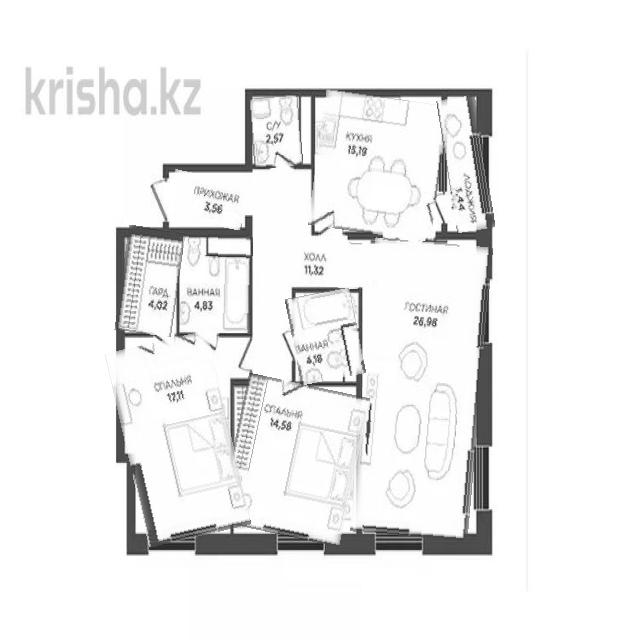balcony: (441, 96, 490, 232)
bathroom: (181, 234, 253, 333), (289, 290, 363, 382), (250, 95, 301, 168)
hallway: (258, 237, 361, 287), (167, 172, 248, 227)
kitchen: (313, 93, 445, 238)
living_room: (357, 240, 487, 539), (114, 334, 241, 542), (225, 378, 364, 542)
other: (117, 226, 182, 336)
